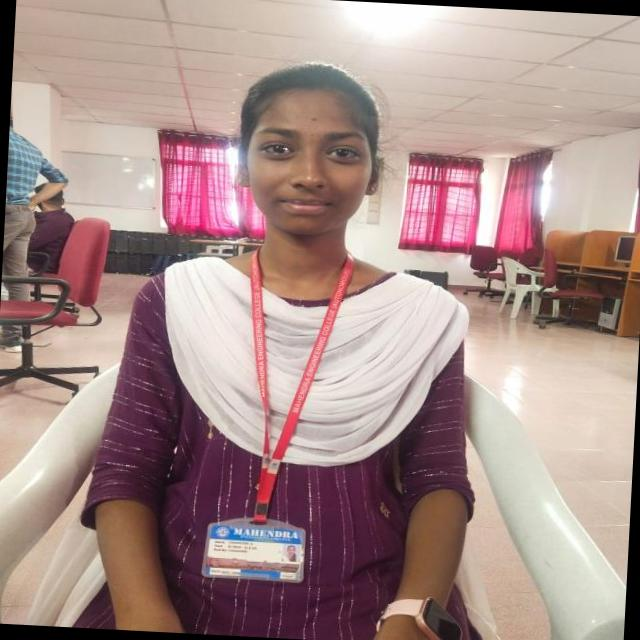id_card: (198, 251, 356, 586)
